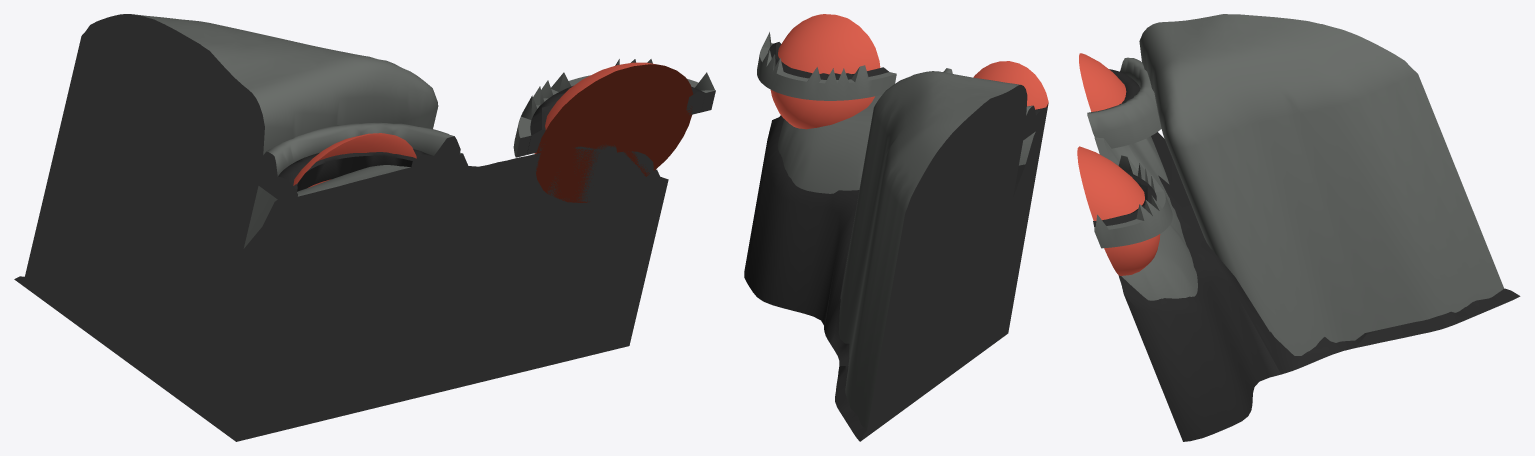
The model's file is dread_shoulder_r_83.glb.
3 renders of one model, left to right at view 1: azimuth 30°, elevation 25°; view 2: azimuth 150°, elevation 25°; view 3: azimuth 270°, elevation 25°, orthographic. The views are drawn at different scales.
Parts seen in each view (by area): view 1: dread_shoulder_r_83; view 2: dread_shoulder_r_83; view 3: dread_shoulder_r_83.
Boxes of the visible parts, x1,y1,x2,y2 form: dread_shoulder_r_83: [14, 14, 715, 441]; dread_shoulder_r_83: [744, 14, 1048, 441]; dread_shoulder_r_83: [1077, 14, 1520, 441].
Bounding box in the file's own units: 21.23 × 17.9 × 25.48.
